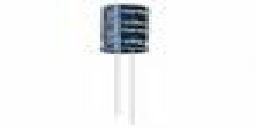Electrolytic-Capacitor: (97, 4, 155, 128)
